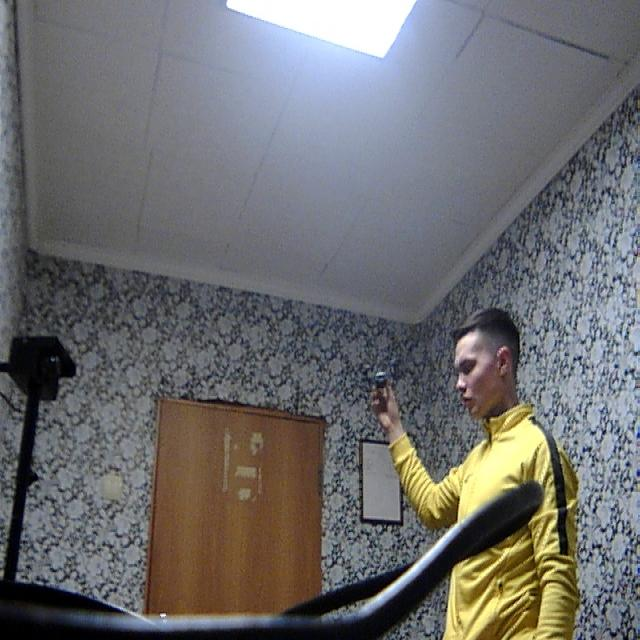drone: (352, 347, 414, 405)
